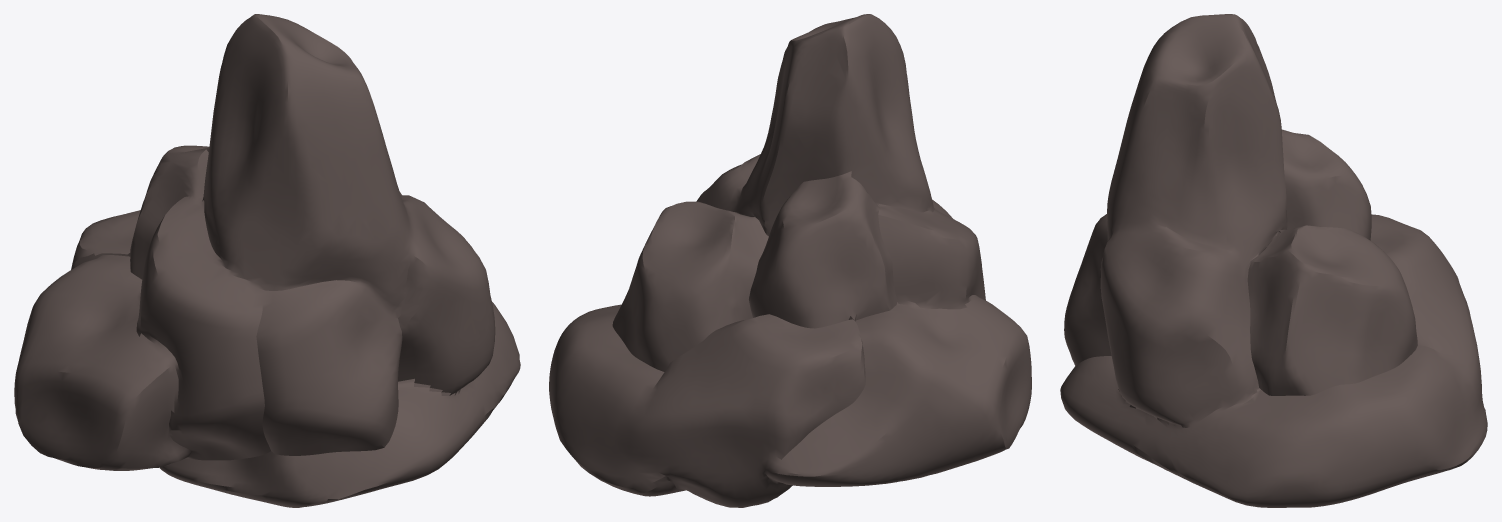
Rendered from quaternius-pirate-environment-cliff-3.glb.
3 views of the same model, side by side, from view 1: azimuth 30°, elevation 25°; view 2: azimuth 150°, elevation 25°; view 3: azimuth 270°, elevation 25° (orthographic). The views are drawn at different scales.
Visible parts, largest first — view 1: Environment_Cliff3; view 2: Environment_Cliff3; view 3: Environment_Cliff3.
Part boxes in pixels (x1,y1,x2,y2): Environment_Cliff3: (14, 14, 520, 507); Environment_Cliff3: (549, 14, 1031, 507); Environment_Cliff3: (1060, 14, 1487, 507).
Bounding box in the file's own units: 6.86 × 6.17 × 5.95.
1 material, 1 textured.
